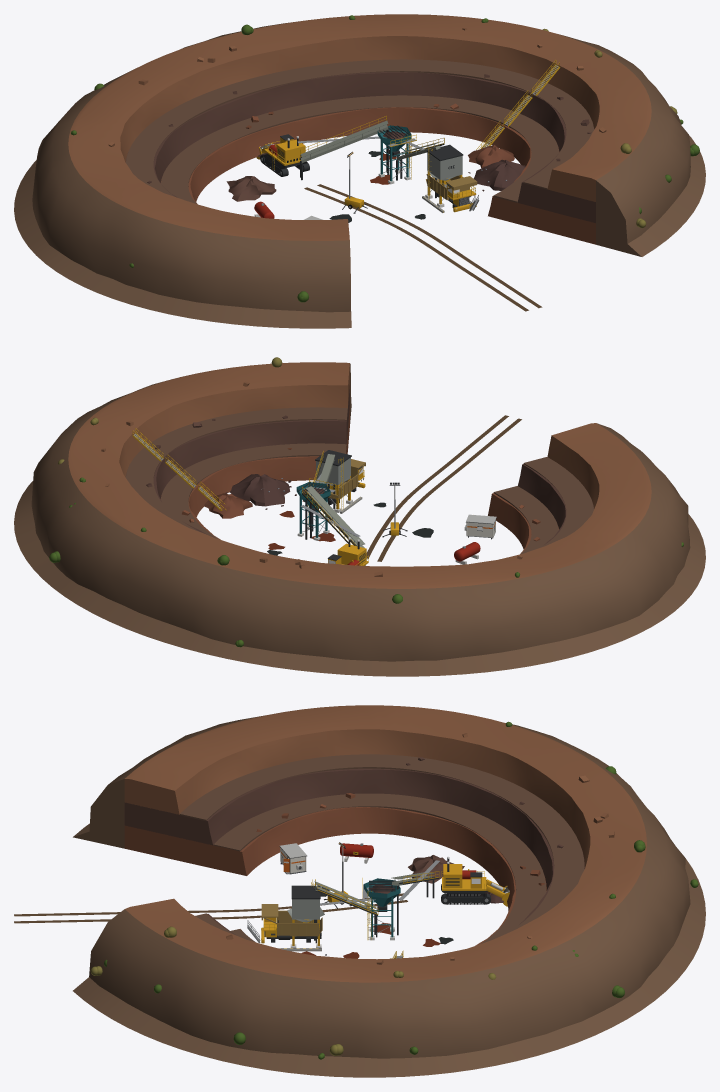
Rendered from strip-mine-metal.glb.
3 views of the same model, one above another, from view 1: azimuth 30°, elevation 25°; view 2: azimuth 150°, elevation 25°; view 3: azimuth 270°, elevation 25° (orthographic). The views are drawn at different scales.
Visible parts, largest first — view 1: C0_0_lod0, C0_-1_lod0, C-1_0_lod0; view 2: C0_0_lod0, C0_-1_lod0, C-1_0_lod0, C-1_-1_lod0; view 3: C0_0_lod0, C0_-1_lod0, C-1_0_lod0, C-1_-1_lod0.
Part boxes in pixels (box(x1,y1,x2,y2)): C0_0_lod0: box(14, 14, 705, 328); C0_-1_lod0: box(422, 119, 646, 228); C-1_0_lod0: box(138, 79, 366, 218); C0_0_lod0: box(14, 362, 705, 676); C0_-1_lod0: box(192, 357, 365, 513); C-1_0_lod0: box(327, 482, 480, 576); C-1_-1_lod0: box(399, 505, 540, 541); C0_0_lod0: box(14, 705, 705, 1077); C0_-1_lod0: box(90, 879, 326, 975); C-1_0_lod0: box(327, 757, 589, 908); C-1_-1_lod0: box(256, 804, 329, 902).
Size of what is drawn, in the model's own units: 122 by 14.76 by 109.
